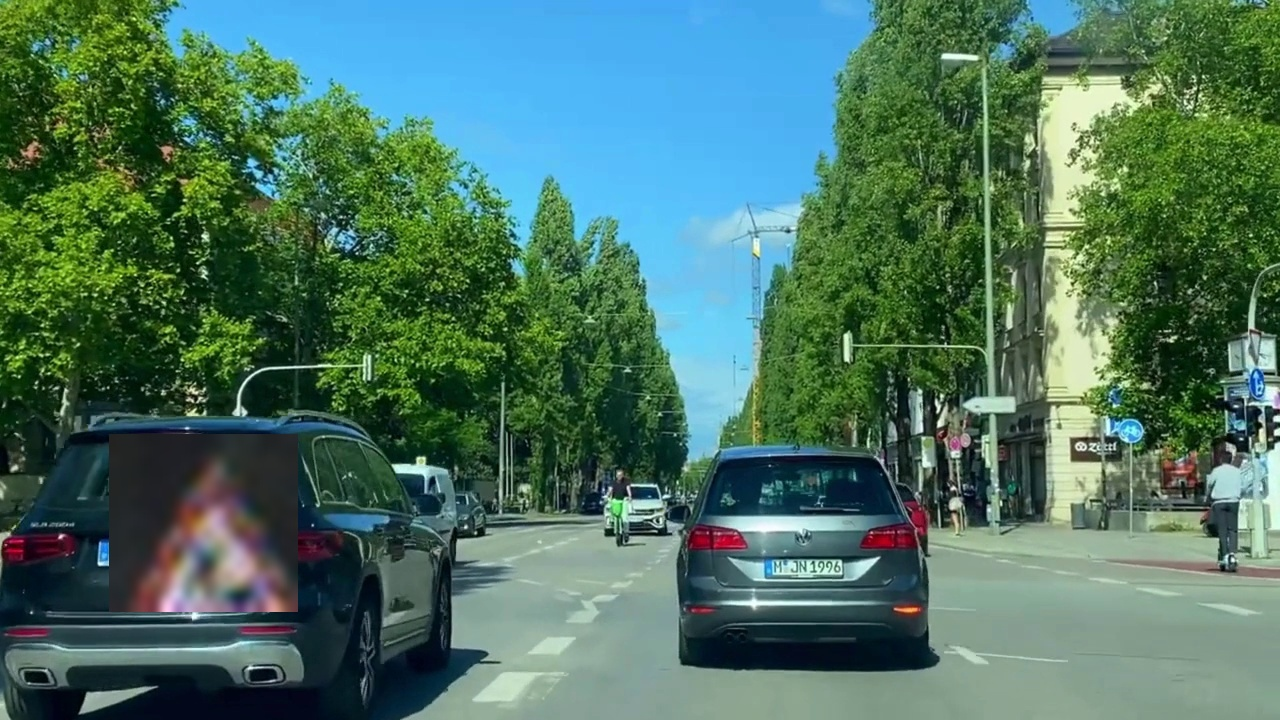Road work: (109, 434, 298, 612)
